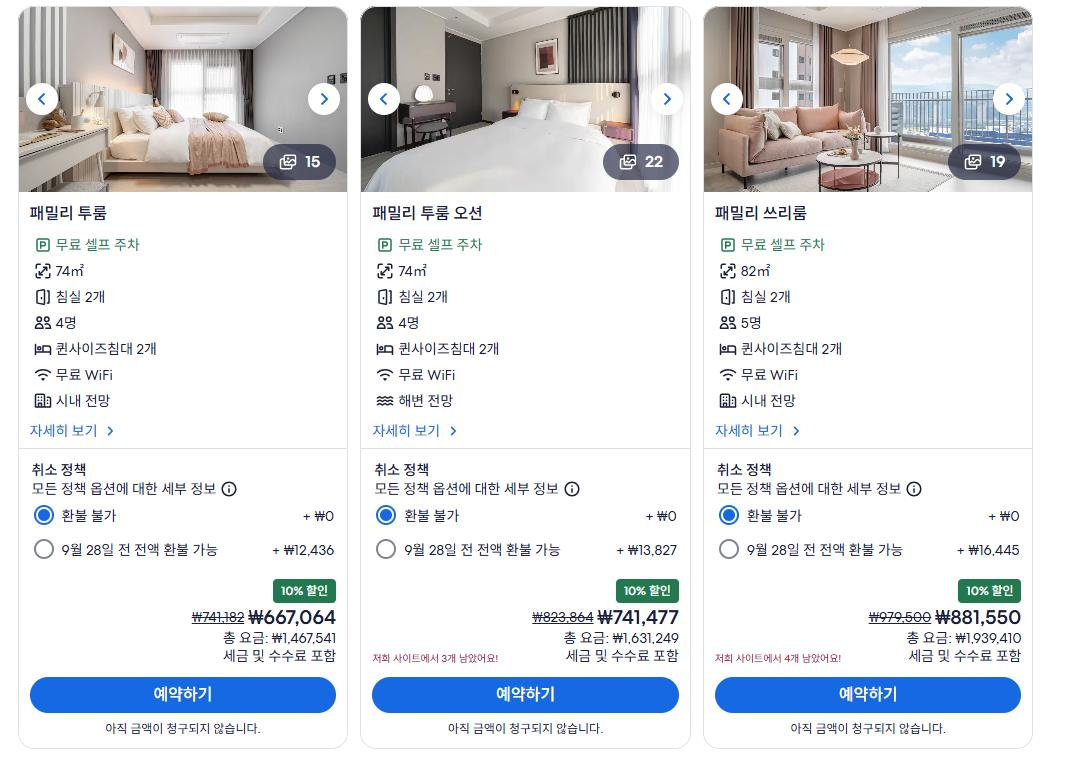button: (718, 673, 1018, 711), (373, 677, 681, 714), (31, 678, 336, 711), (27, 417, 140, 441), (364, 419, 467, 442), (716, 416, 800, 438), (29, 84, 57, 104), (1006, 91, 1028, 114), (656, 84, 676, 101), (319, 89, 333, 112), (717, 89, 732, 102), (379, 89, 392, 103)
checkbox: (32, 540, 218, 560), (719, 541, 904, 558), (379, 541, 562, 558), (720, 500, 802, 527), (379, 504, 470, 526), (31, 506, 118, 526)
